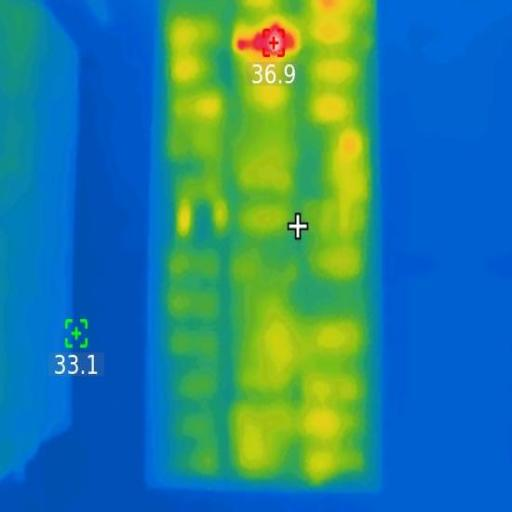hotspot: (235, 27, 297, 58)
